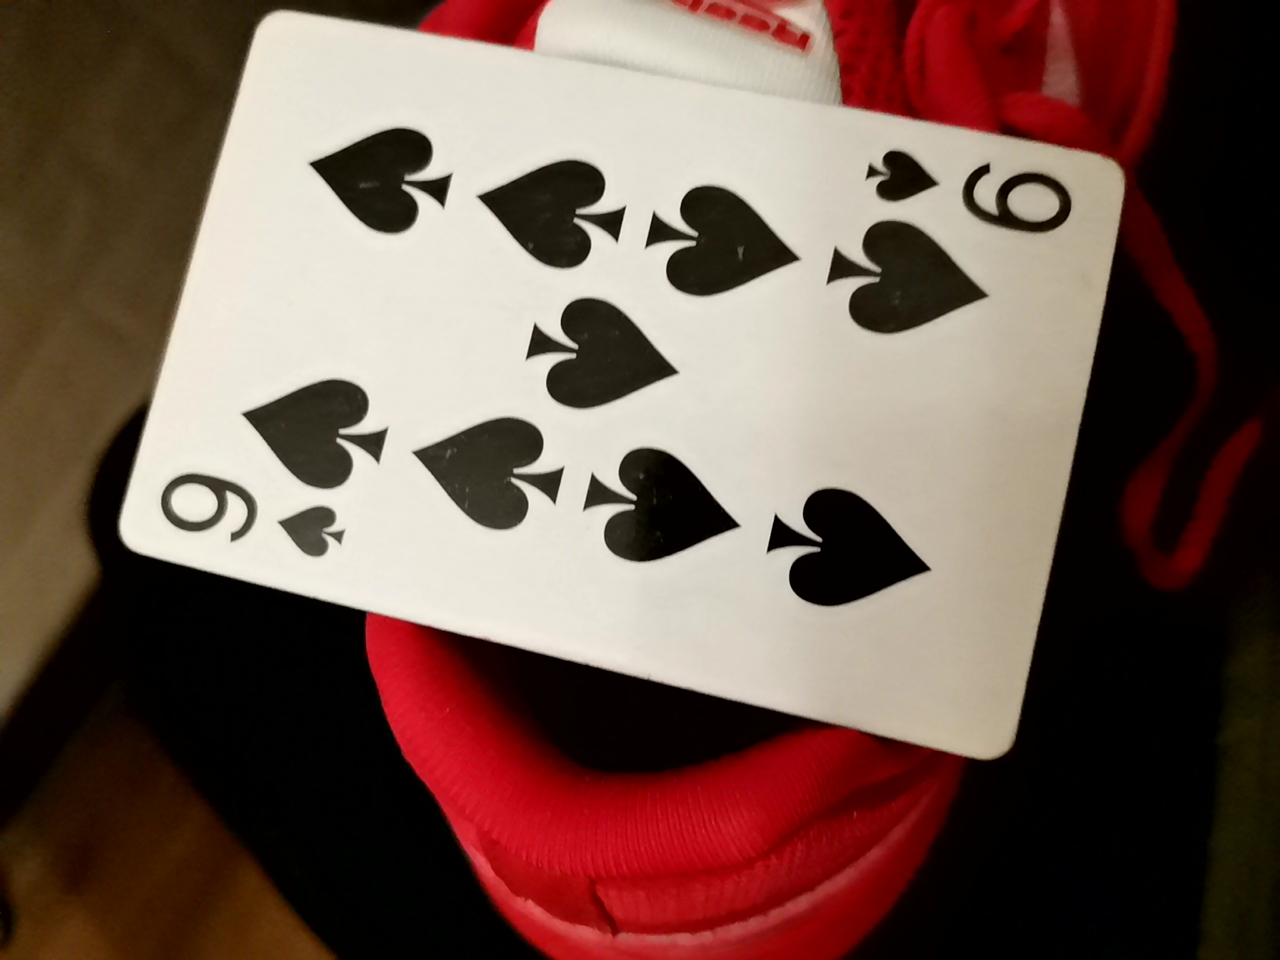ht 9: (90, 18, 1110, 750)
